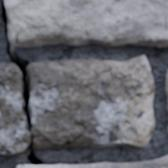brick: (5, 0, 167, 46), (17, 156, 167, 167), (165, 73, 167, 99)
broken_brick: (29, 54, 155, 150), (0, 63, 29, 156)
crack: (0, 2, 42, 165)
